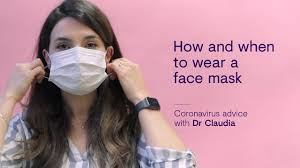mask: (40, 15, 113, 94)
